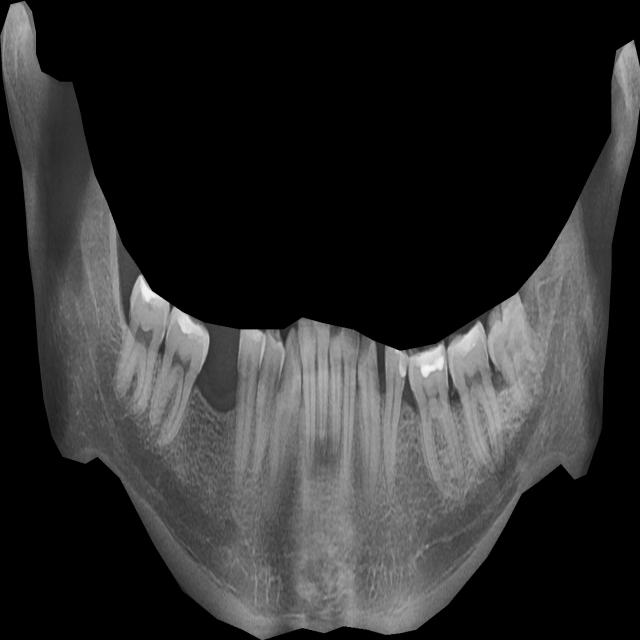mandibula: (0, 1, 640, 640)
